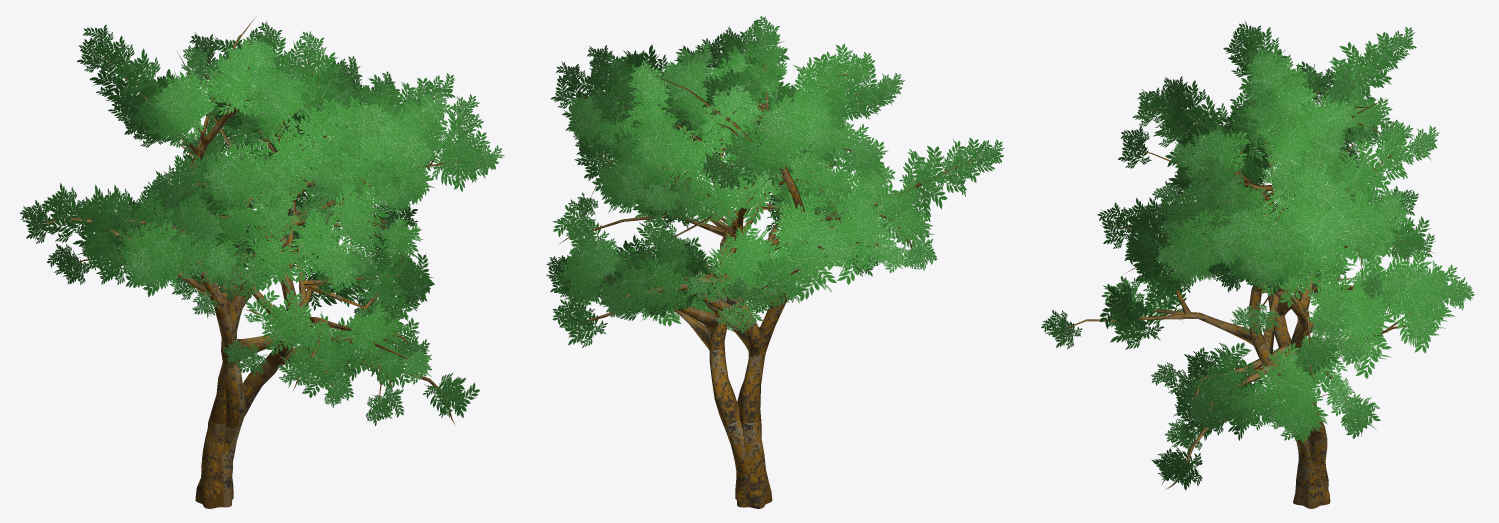
The model's file is tree2.fbx.
3 views of the same model, side by side, from view 1: azimuth 30°, elevation 25°; view 2: azimuth 150°, elevation 25°; view 3: azimuth 270°, elevation 25° (orthographic). The views are drawn at different scales.
Parts seen in each view (by area): view 1: leaf2_1, testtrunk_0; view 2: leaf2_1, testtrunk_0; view 3: leaf2_1, testtrunk_0.
Part boxes in pixels (bbox=[...]): leaf2_1: bbox=[20, 21, 504, 425]; testtrunk_0: bbox=[45, 16, 481, 508]; leaf2_1: bbox=[546, 16, 1004, 347]; testtrunk_0: bbox=[560, 50, 984, 508]; leaf2_1: bbox=[1041, 20, 1474, 490]; testtrunk_0: bbox=[1067, 49, 1451, 508].
Size of the model in its own units: 386 by 433 by 376.
